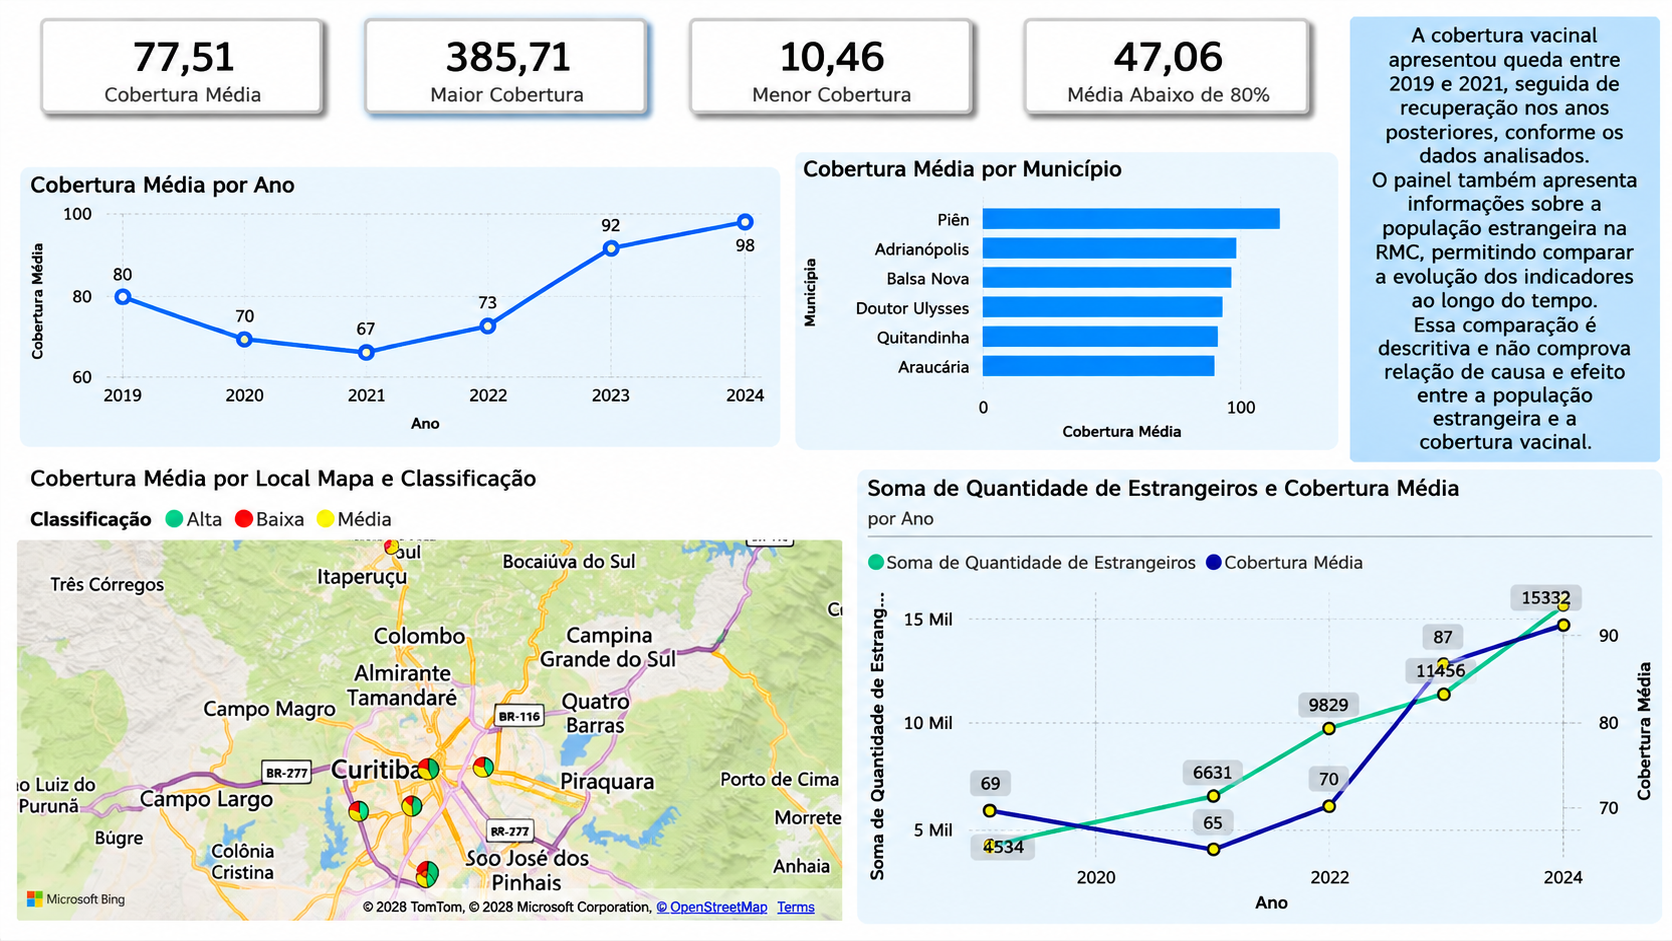

The page's visual inventory and layout, read from the dashboard file:
{"tool":"powerbi","page":{"name":"Página 1","canvas":[1280,720],"ordinal":0},"visuals":[{"type":"cardVisual","fields":{"Data":["Cobertura Vacinal.Cobertura Média"]},"box":[9.6,0,279.9,135.8],"z":0},{"type":"cardVisual","fields":{"Data":["Cobertura Vacinal.Maior Cobertura"]},"box":[264.8,1.4,279.9,135.8],"z":1000},{"type":"cardVisual","fields":{"Data":["Cobertura Vacinal.Menor Cobertura"]},"box":[521.4,1.4,279.9,135.8],"z":2000},{"type":"cardVisual","fields":{"Data":["Cobertura Vacinal.Cobertura Crítica"]},"box":[783.8,0,294.7,135.7],"z":3000},{"type":"lineChart","fields":{"Category":["Cobertura Vacinal.Ano"],"Y":["Cobertura Vacinal.Cobertura Média"]},"box":[9.4,153.5,597.7,196.6],"z":4000},{"type":"actionButton","box":[0,0,100,40],"z":5000},{"type":"map","fields":{"Category":["Cobertura Vacinal.Local Mapa"],"Series":["Cobertura Vacinal.Classificação"],"Size":["Cobertura Vacinal.Cobertura Média"]},"box":[0,350,694.7,359.4],"z":6000},{"type":"barChart","fields":{"Category":["Cobertura Vacinal.Município"],"Y":["Cobertura Vacinal.Cobertura Média"]},"box":[630,136,460.4,223.5],"z":7000},{"type":"lineChart","title":"Registros Migratórios e Cobertura Vacinal Média por Ano","fields":{"Category":["Estrangeiros_Vacina.Ano"],"Y":["Sum(Estrangeiros_Vacina.Quantidade de Estrangeiros)"],"Y2":["Cobertura Vacinal.Cobertura Média"]},"box":[694.7,370.2,585.6,350],"z":8000},{"type":"textbox","box":[1108,9.4,172.3,340.6],"z":9000}]}

Visuals, with their boxes in screenshot pixels (x1, y1, x2, y2), scaled from the page's 1280x720 canvas onto the 1672x941 screenshot:
cardVisual - Cobertura Vacinal.Cobertura Média: [x1=13, y1=0, x2=378, y2=177]
cardVisual - Cobertura Vacinal.Maior Cobertura: [x1=346, y1=2, x2=712, y2=179]
cardVisual - Cobertura Vacinal.Menor Cobertura: [x1=681, y1=2, x2=1047, y2=179]
cardVisual - Cobertura Vacinal.Cobertura Crítica: [x1=1024, y1=0, x2=1409, y2=177]
lineChart - Cobertura Vacinal.Ano x Cobertura Vacinal.Cobertura Média: [x1=12, y1=201, x2=793, y2=458]
actionButton: [x1=0, y1=0, x2=131, y2=52]
map - Cobertura Vacinal.Local Mapa x Cobertura Vacinal.Classificação: [x1=0, y1=457, x2=907, y2=927]
barChart - Cobertura Vacinal.Município x Cobertura Vacinal.Cobertura Média: [x1=823, y1=178, x2=1424, y2=470]
"Registros Migratórios e Cobertura Vacinal Média por Ano" lineChart: [x1=907, y1=484, x2=1671, y2=940]
textbox: [x1=1447, y1=12, x2=1671, y2=457]
